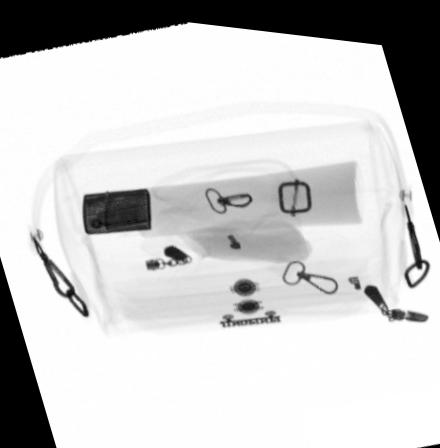Lighter: (81, 183, 152, 233)
